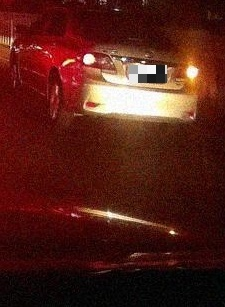L_light: (76, 51, 118, 75)
R_light: (170, 65, 198, 83)
T_light: (128, 37, 145, 42)
night-right: (68, 7, 199, 133)
plate_1: (129, 65, 167, 83)
